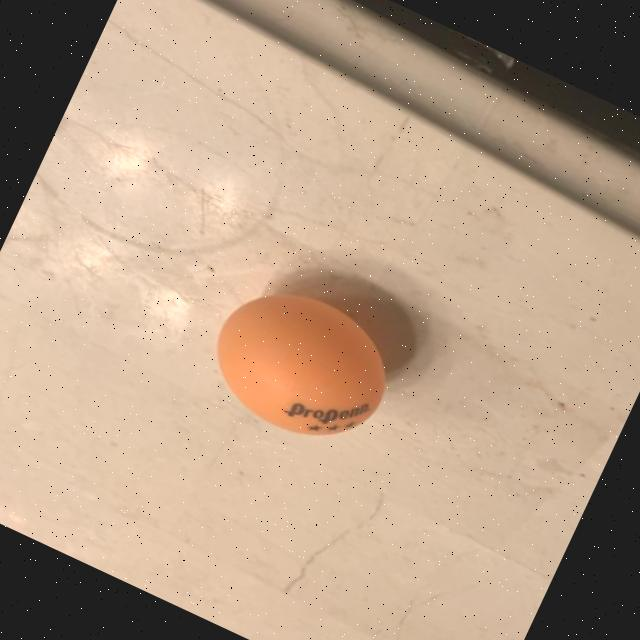ping-pong-ball: (183, 255, 419, 470)
